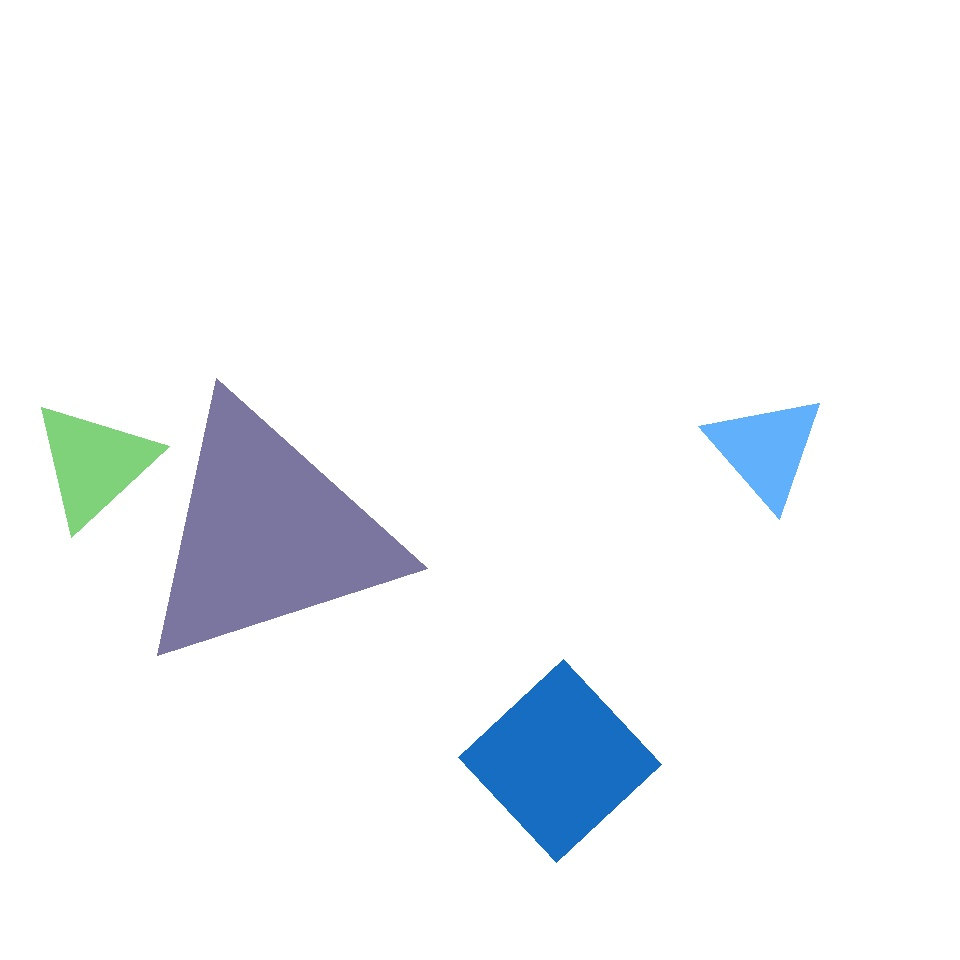circle: (132, 396, 402, 672), (152, 381, 422, 619), (471, 282, 726, 524), (30, 399, 158, 529), (706, 392, 826, 508)
square: (459, 660, 662, 862), (451, 386, 554, 490)
triangle: (715, 230, 864, 379)
